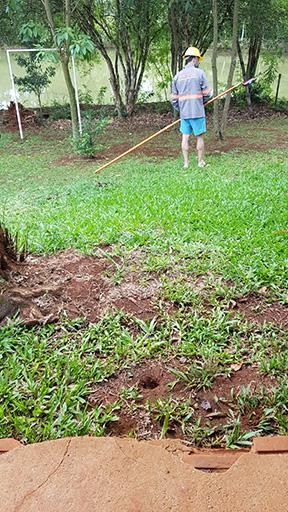Capacete: (181, 46, 204, 63)
Detector_Tensao_Contato: (241, 74, 258, 87)
Vara_Manobra: (91, 81, 241, 174)
